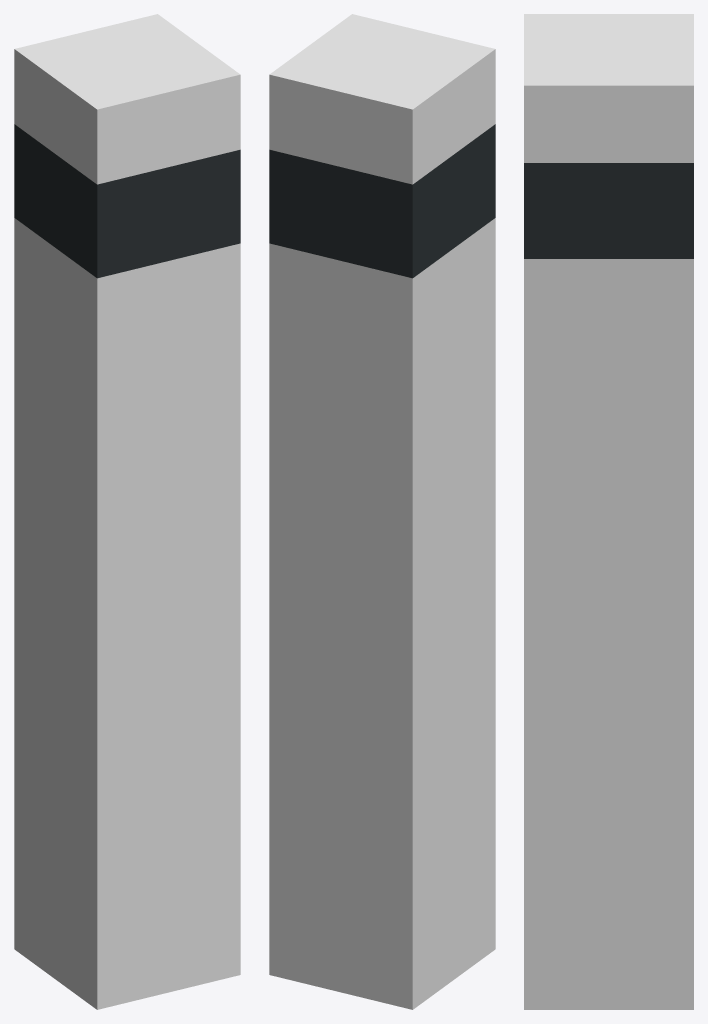
Rendered from lantai_1_corridor_pillar.obj.
3 renders of one model, left to right at view 1: azimuth 30°, elevation 25°; view 2: azimuth 150°, elevation 25°; view 3: azimuth 270°, elevation 25°, orthographic. The views are drawn at different scales.
Bounding box in the file's own units: 0.8 × 4.8 × 0.8.
Materials: 1 (1 with a texture image).
